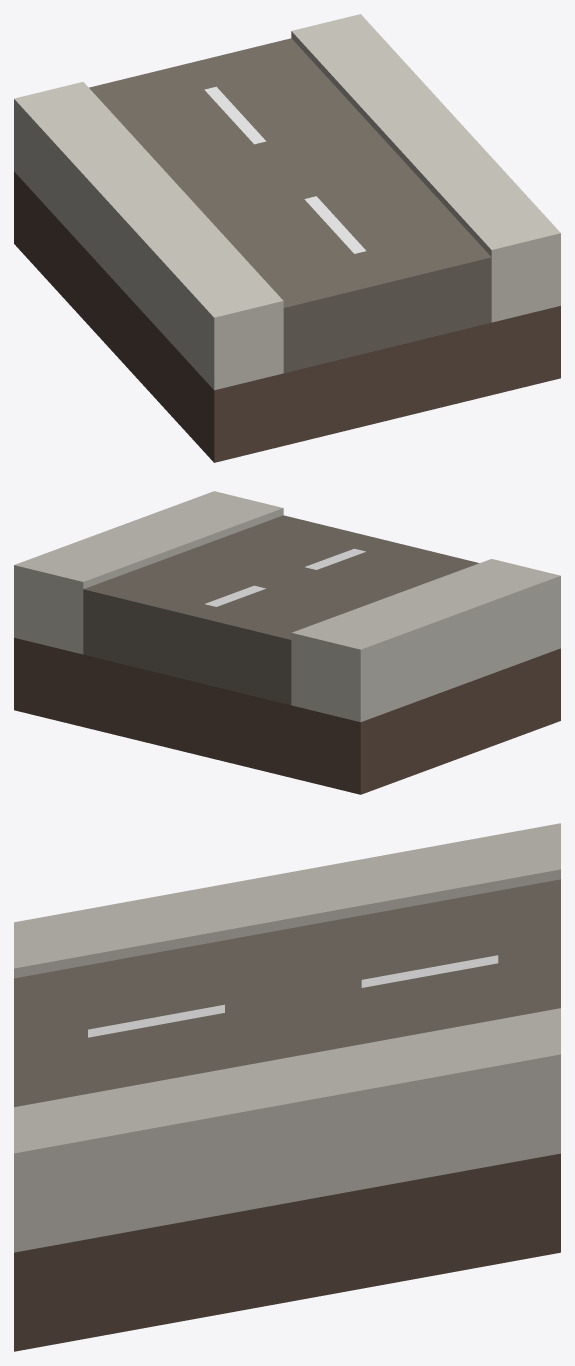
The model's file is road-tile-straight-hill_02_small.fbx.
The picture shows the model from 3 angles, top to bottom: view 1: azimuth 30°, elevation 25°; view 2: azimuth 150°, elevation 25°; view 3: azimuth 270°, elevation 25°; orthographic projection. The views are drawn at different scales.
Parts seen in each view (by area): view 1: road-tile-straight-hill_02_small; view 2: road-tile-straight-hill_02_small; view 3: road-tile-straight-hill_02_small.
Boxes of the visible parts, left/top/right/bottom form: road-tile-straight-hill_02_small: left=14, top=14, right=560, bottom=462; road-tile-straight-hill_02_small: left=14, top=491, right=560, bottom=794; road-tile-straight-hill_02_small: left=14, top=823, right=560, bottom=1351.
Bounding box in the file's own units: 1000 × 600 × 1000.
